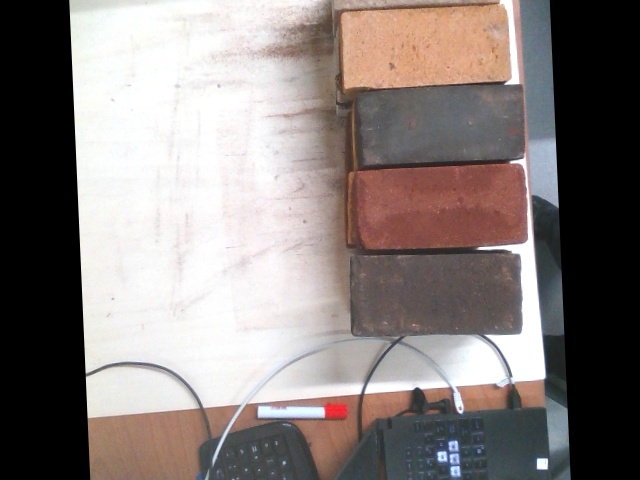brick: (344, 5, 507, 87), (363, 167, 526, 248), (360, 84, 523, 165), (354, 255, 520, 334)
